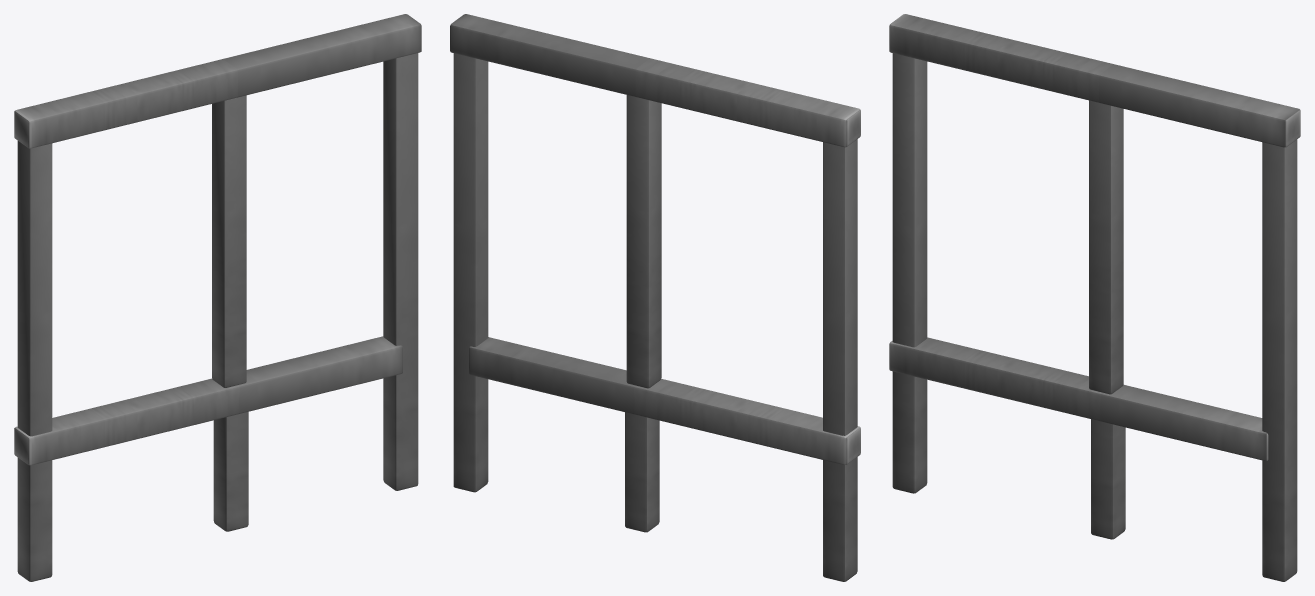
The model's file is ARC1110047.fbx.
3 views of the same model, side by side, from view 1: azimuth 30°, elevation 25°; view 2: azimuth 150°, elevation 25°; view 3: azimuth 330°, elevation 25° (orthographic).
Visible parts, largest first — view 1: smARC1110047; view 2: smARC1110047; view 3: smARC1110047.
Boxes of the visible parts, <box> form: smARC1110047: <box>14,14,421,581</box>; smARC1110047: <box>450,14,860,581</box>; smARC1110047: <box>889,14,1300,581</box>.
Bounding box in the file's own units: 109 × 123 × 8.21.
1 material, 1 textured.
